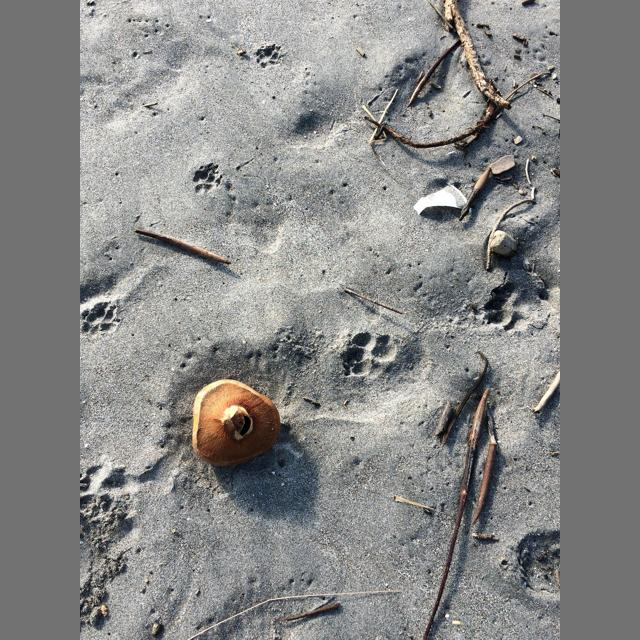litter: (413, 184, 471, 215), (445, 151, 455, 155)
